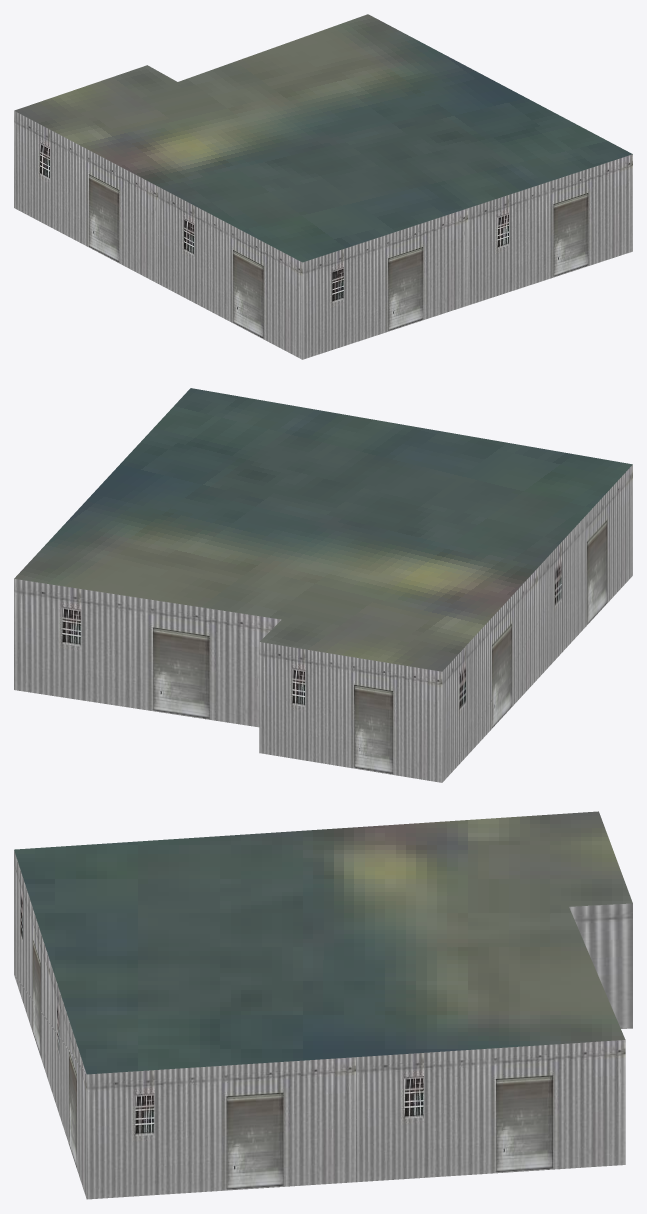
3 renders of one model, top to bottom at view 1: azimuth 30°, elevation 25°; view 2: azimuth 150°, elevation 25°; view 3: azimuth 270°, elevation 25°, orthographic. The views are drawn at different scales.
Visible parts, largest first — view 1: SketchUp (×2); view 2: SketchUp (×2); view 3: SketchUp (×2).
Part boxes in pixels (x1,y1,x2,y2): SketchUp (×2): (14, 14, 632, 359); SketchUp (×2): (14, 388, 632, 782); SketchUp (×2): (14, 811, 632, 1199).
Size of what is drawn, in the model's own units: 586 by 583 by 130.
2 materials, 2 textured.
